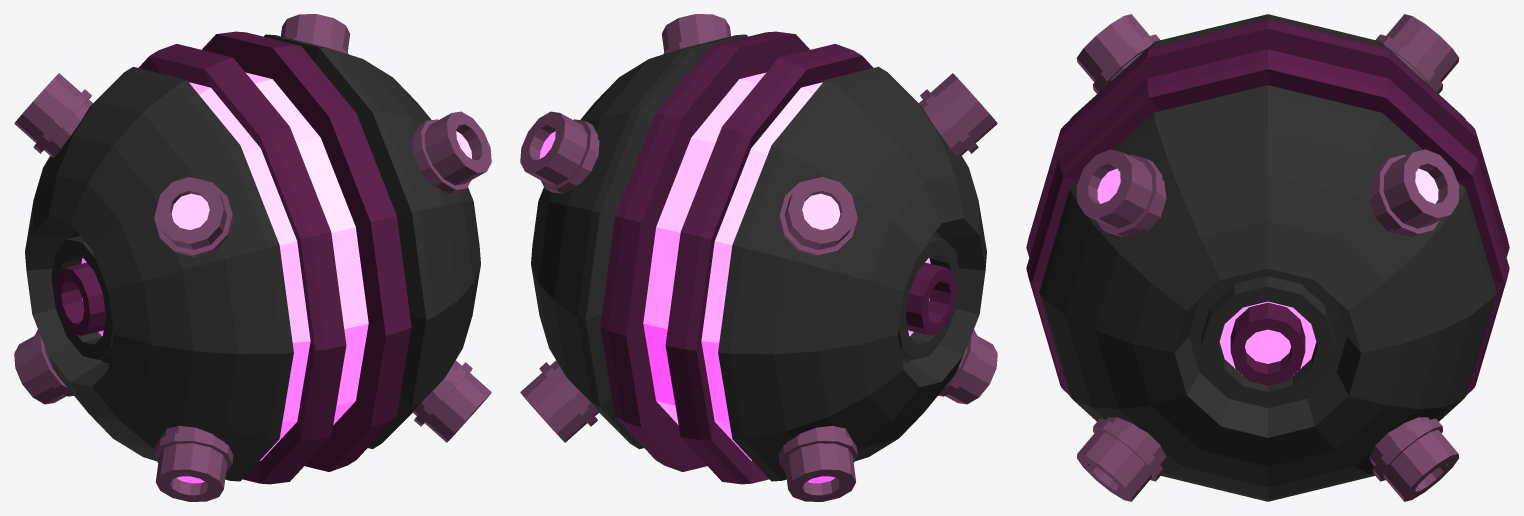
File: ProximtyMine.fbx
The picture shows the model from 3 angles, left to right: view 1: azimuth 30°, elevation 25°; view 2: azimuth 150°, elevation 25°; view 3: azimuth 270°, elevation 25°; orthographic projection. The views are drawn at different scales.
Visible parts, largest first — view 1: Sphere; view 2: Sphere; view 3: Sphere.
Part boxes in pixels (x1,y1,x2,y2): Sphere: (14,14,491,501); Sphere: (520,14,997,501); Sphere: (1026,14,1509,501).
Bounding box in the file's own units: 370 × 396 × 396.
